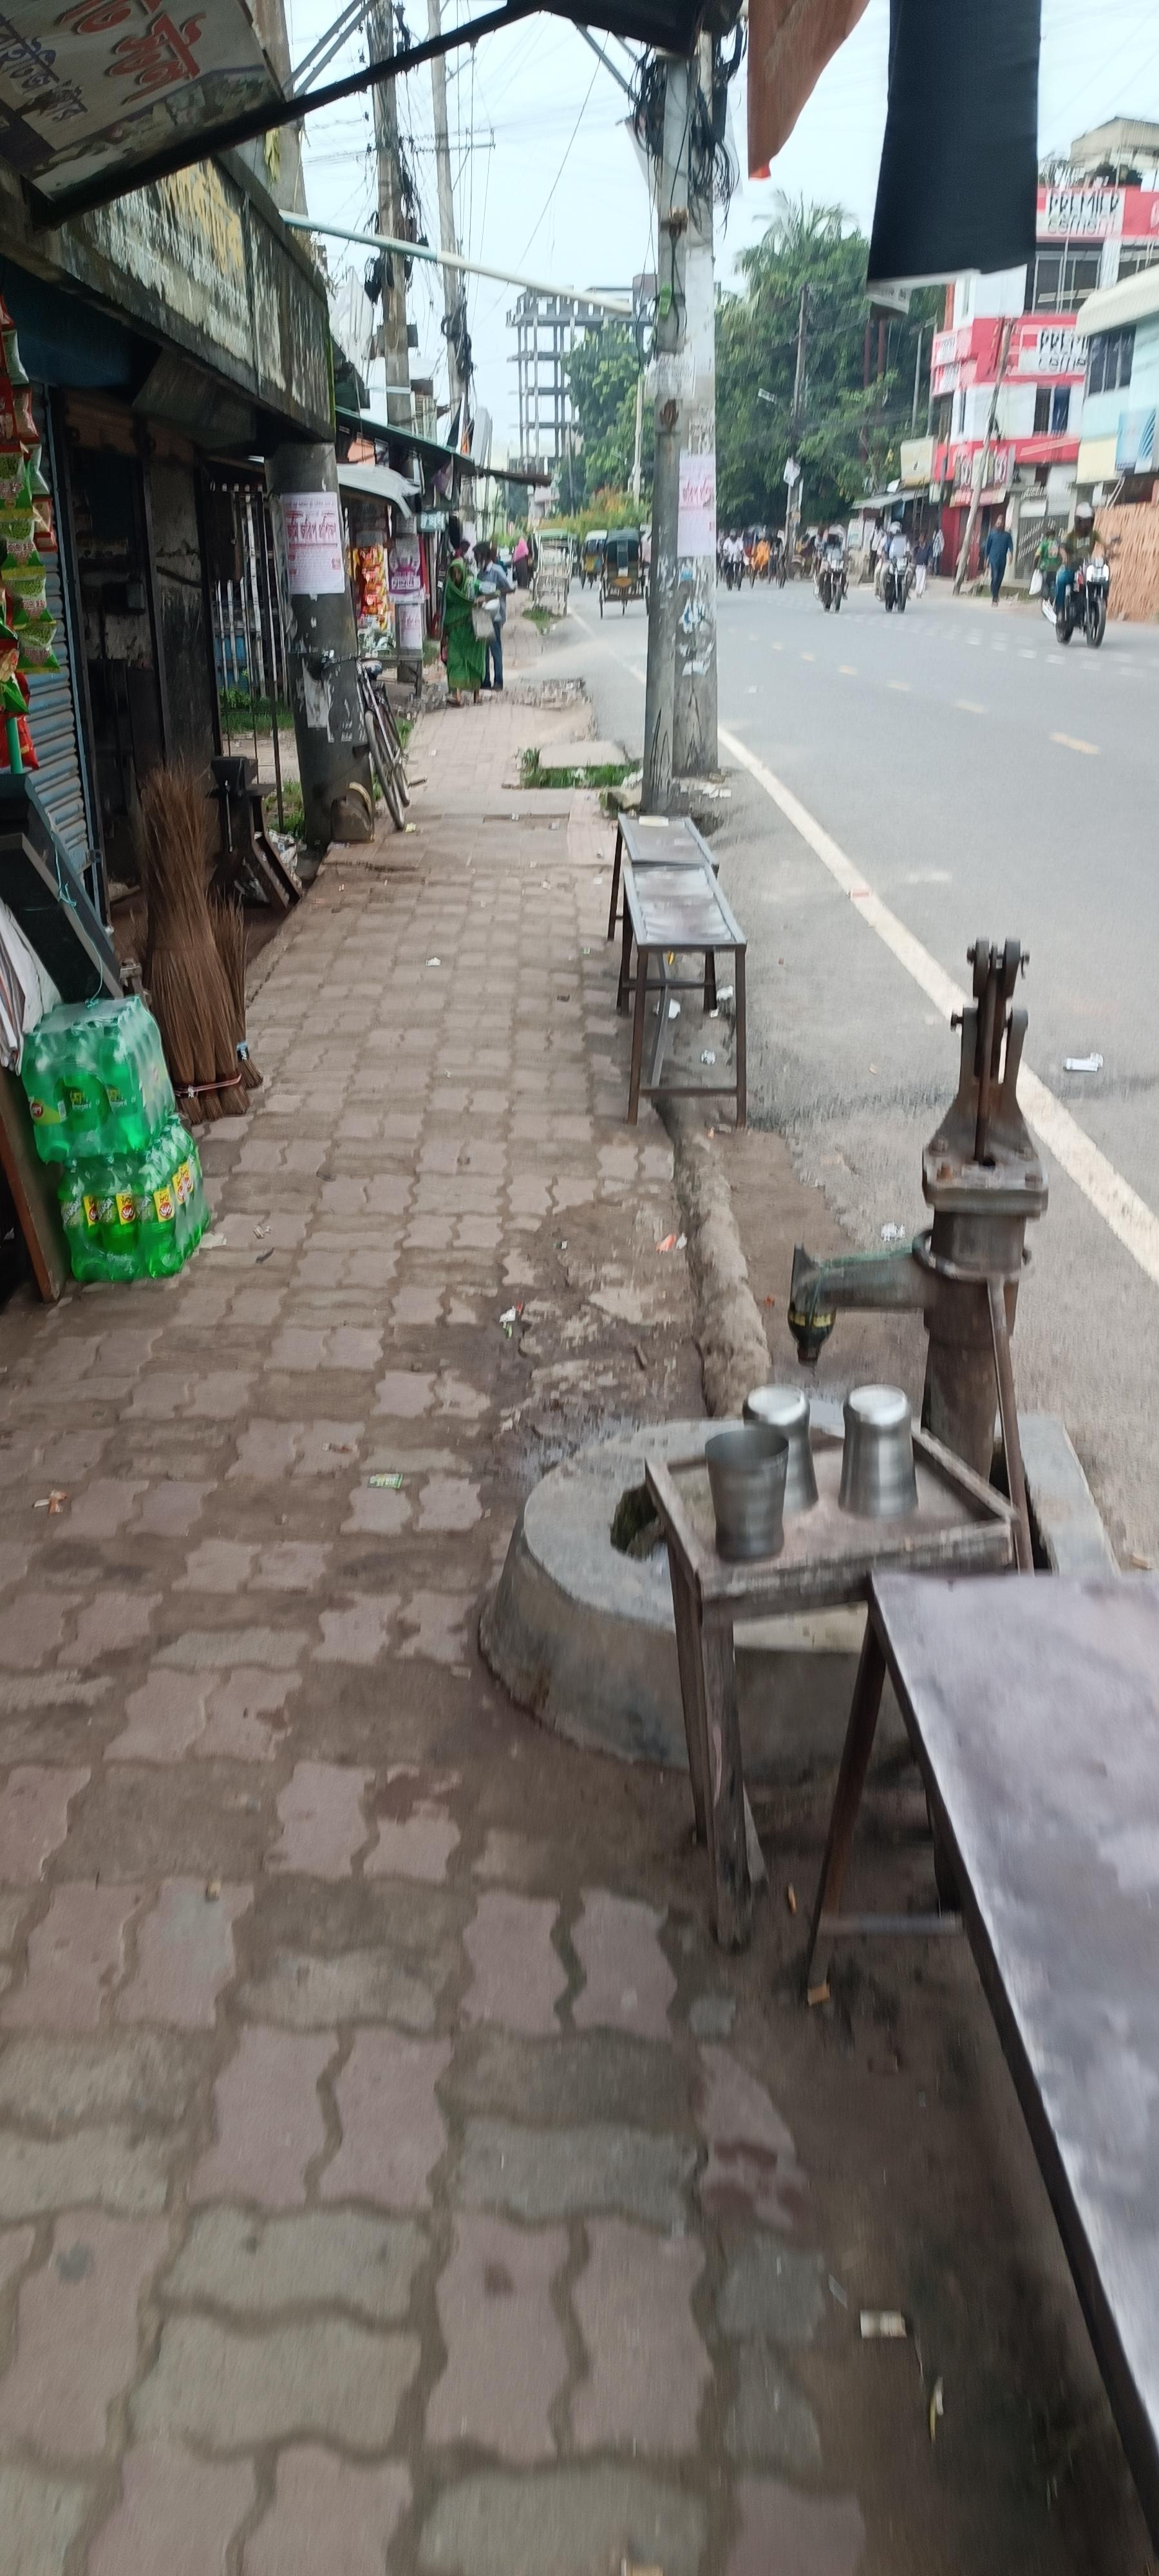Fallen-tree: (1044, 550, 1113, 647)
Garbage: (888, 1592, 1159, 2499), (637, 1398, 1019, 1955), (20, 966, 218, 1280), (588, 831, 780, 1088)
Garbage-bin: (982, 513, 1013, 605)
Light-pole: (612, 84, 747, 823)
Pothole: (5, 603, 957, 2569)
